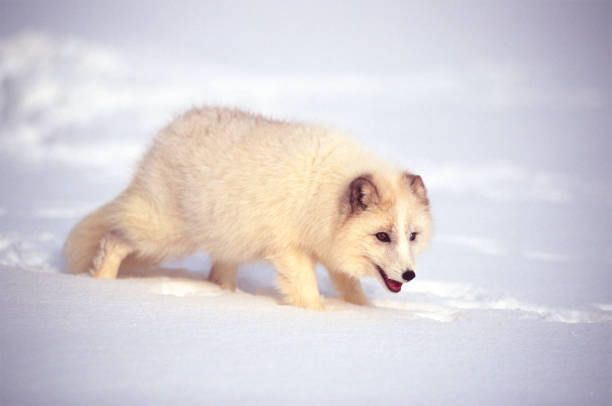arcticfox: (337, 170, 431, 299)
